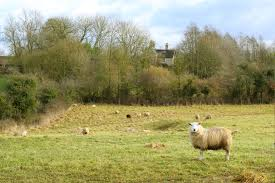sheep: (188, 121, 236, 159)
